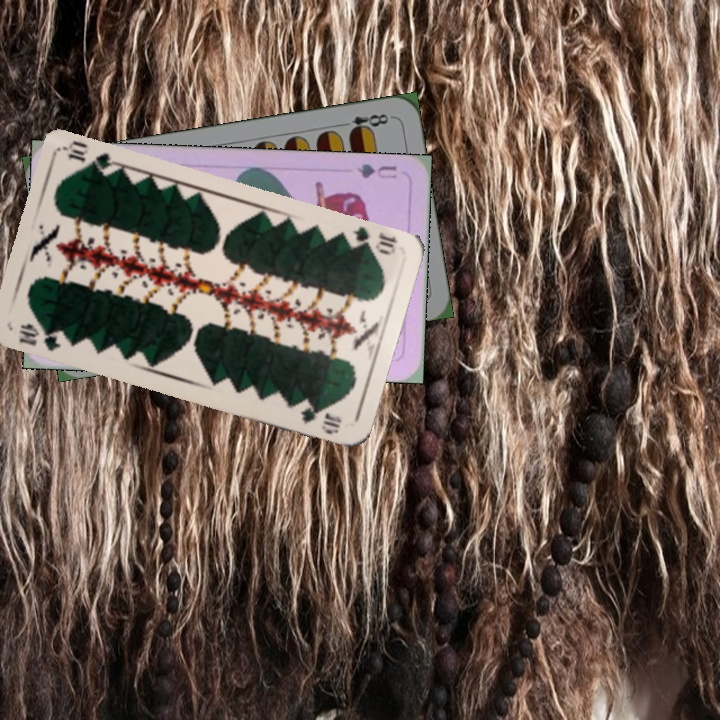E8: (335, 109, 391, 137)
G10: (341, 223, 400, 258), (14, 319, 64, 354)
GU: (353, 160, 400, 182)
